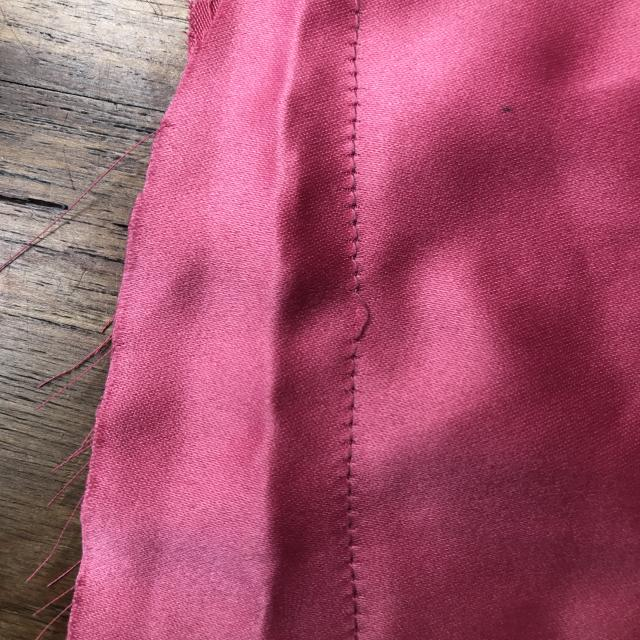skip: (332, 279, 380, 358)
